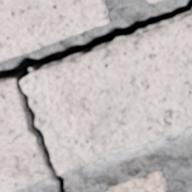brick: (0, 0, 111, 61), (105, 169, 170, 191), (147, 0, 160, 2)
broken_brick: (21, 15, 191, 173), (0, 78, 52, 191)
crack: (0, 0, 191, 191), (72, 158, 78, 164)
